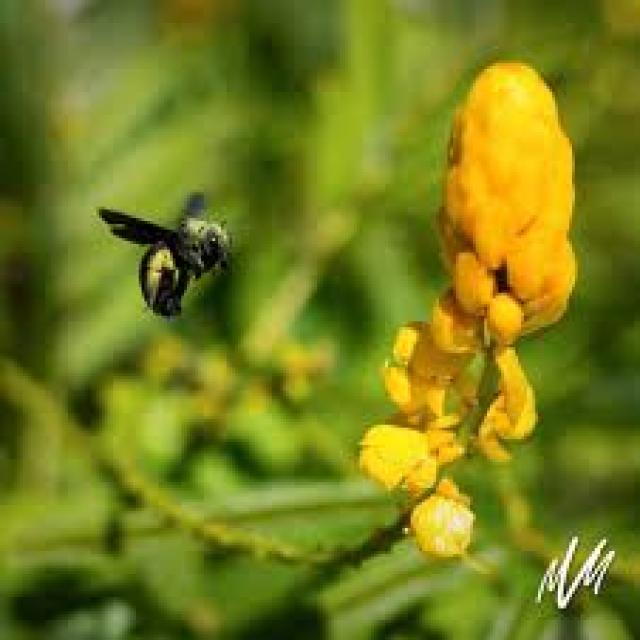Xylocopa: (98, 175, 239, 324)
